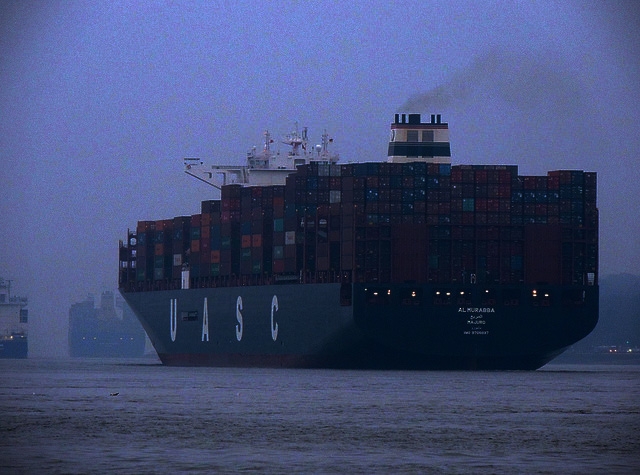container_ship: (118, 114, 601, 370)
